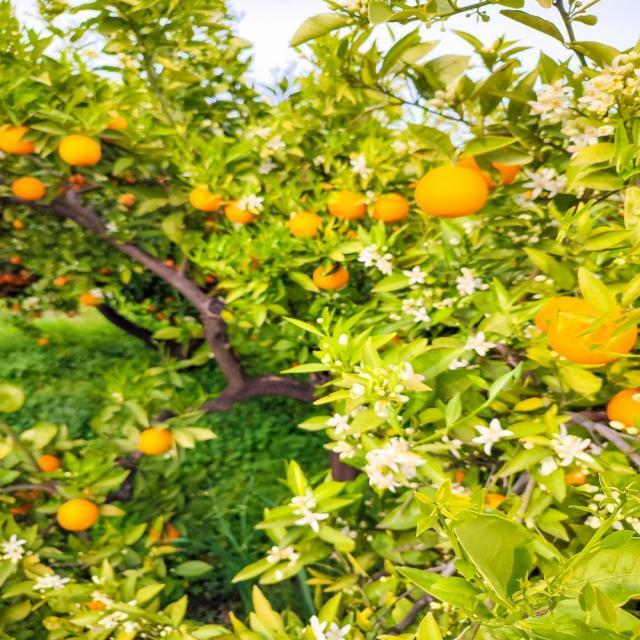Bunga: (520, 167, 554, 197), (371, 447, 409, 469), (571, 126, 610, 146), (595, 56, 625, 82), (560, 440, 592, 464), (472, 420, 508, 441), (295, 511, 329, 533), (466, 332, 494, 356), (541, 79, 575, 97), (325, 622, 353, 640), (545, 95, 569, 114), (377, 473, 402, 491), (580, 84, 604, 102), (308, 616, 326, 640), (458, 275, 480, 293), (398, 365, 421, 382), (2, 535, 24, 552), (404, 268, 424, 286), (442, 438, 462, 456), (409, 308, 432, 322), (331, 416, 348, 432), (51, 574, 67, 590), (4, 548, 22, 562), (377, 260, 394, 274), (358, 251, 375, 265), (350, 384, 366, 397), (36, 576, 50, 590), (374, 402, 386, 416), (101, 617, 115, 628), (610, 520, 624, 530), (291, 496, 306, 504), (631, 519, 640, 532), (429, 99, 443, 107), (359, 372, 373, 380), (434, 89, 444, 100), (338, 334, 349, 344), (304, 501, 316, 510), (444, 91, 454, 101), (629, 51, 639, 60), (624, 63, 634, 72), (587, 105, 599, 112), (400, 395, 410, 403), (393, 385, 403, 393), (621, 54, 630, 62), (377, 389, 384, 396), (406, 428, 414, 433)
Jeruk Sudah Matang: (538, 296, 636, 363), (416, 167, 489, 216), (458, 150, 519, 188), (607, 388, 640, 433), (57, 136, 101, 166), (59, 500, 98, 530), (370, 194, 410, 222), (329, 191, 366, 220), (0, 124, 36, 153), (288, 212, 324, 238), (190, 186, 222, 212), (140, 429, 172, 454), (12, 177, 46, 200), (314, 266, 346, 290), (224, 201, 254, 224), (150, 522, 177, 546), (482, 492, 508, 514), (564, 471, 587, 485), (104, 116, 126, 130)
